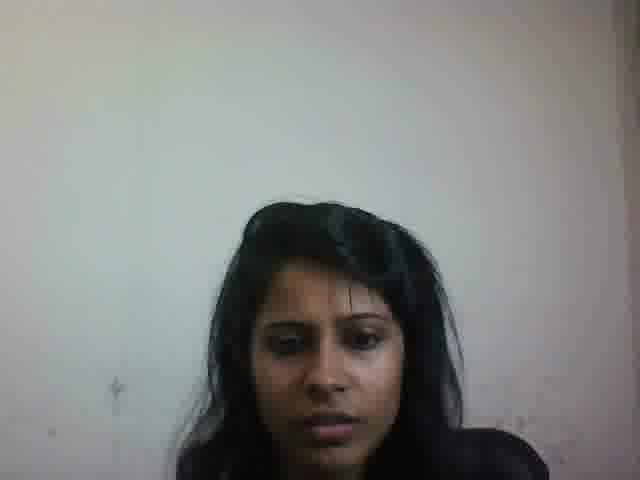bingung: (240, 260, 401, 471)
